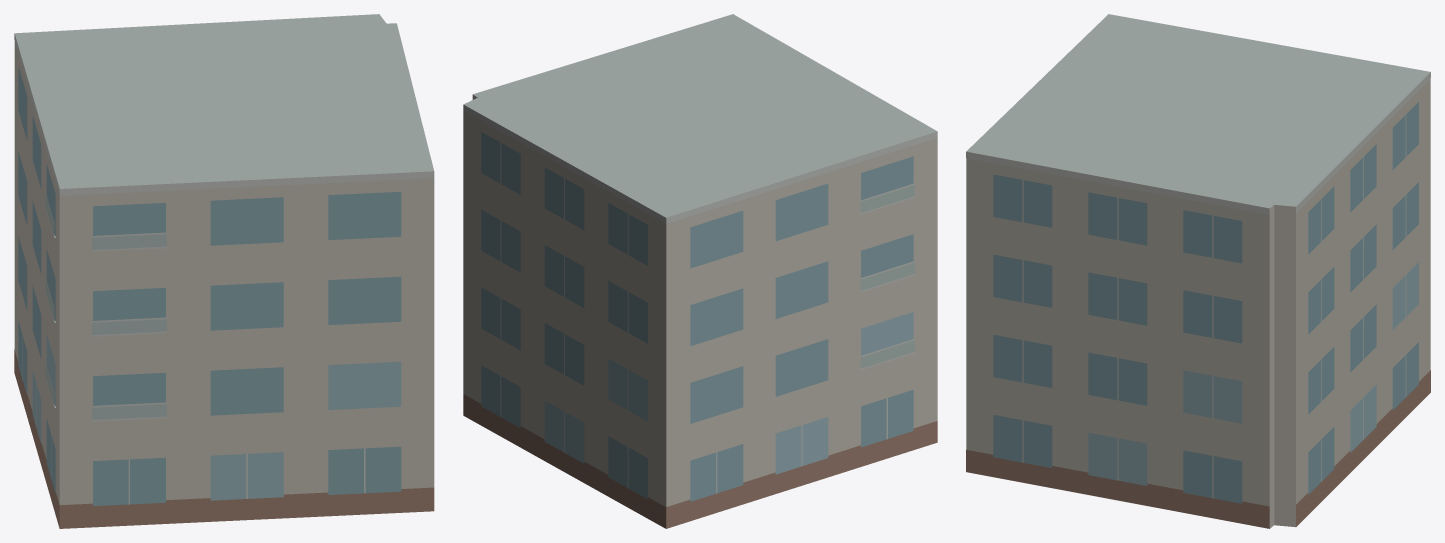
Rendered from survey-upis-32991537.glb.
3 renders of one model, left to right at view 1: azimuth 30°, elevation 25°; view 2: azimuth 150°, elevation 25°; view 3: azimuth 270°, elevation 25°, orthographic. The views are drawn at different scales.
Visible parts, largest first — view 1: survey-upis-32991537.tmp; view 2: survey-upis-32991537.tmp; view 3: survey-upis-32991537.tmp.
Boxes of the visible parts, x1,y1,x2,y2 form: survey-upis-32991537.tmp: (14,14,434,528); survey-upis-32991537.tmp: (463,14,937,528); survey-upis-32991537.tmp: (966,14,1430,528).
Bounding box in the file's own units: 15.89 × 12.2 × 16.04.
